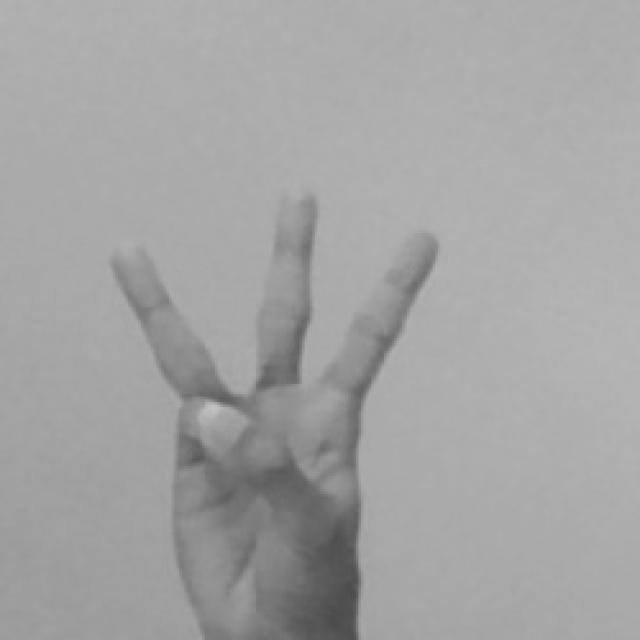W: (95, 176, 447, 640)
